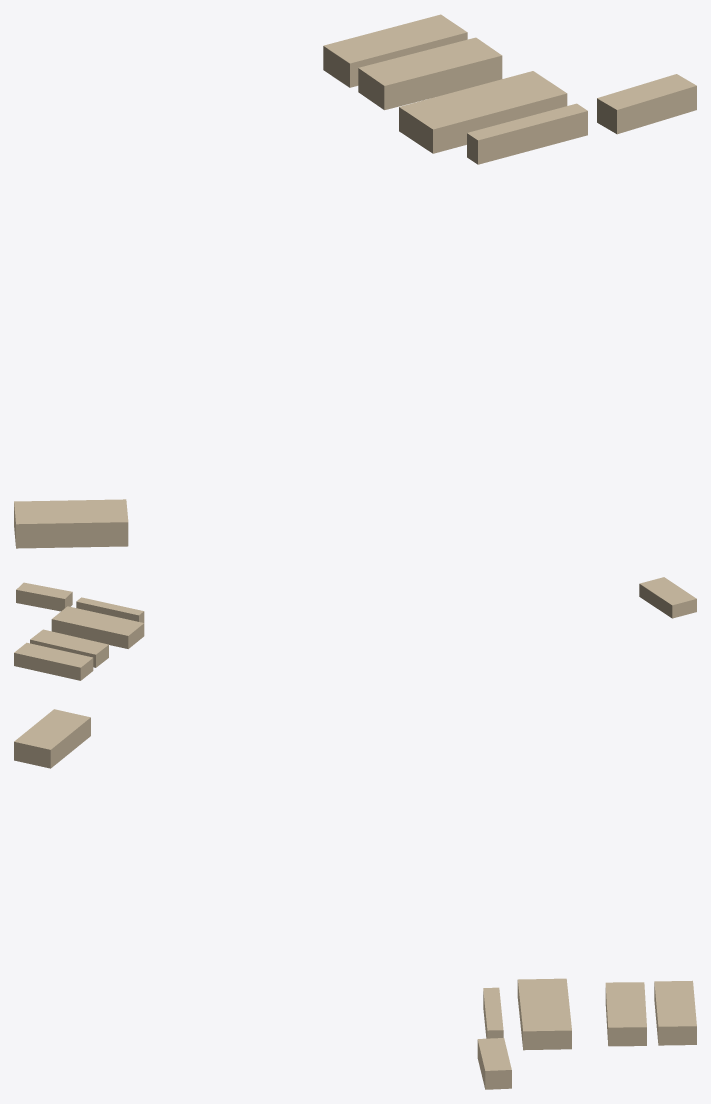
Rendered from -18_22-estimated-coarse.glb.
3 views of the same model, one above another, from view 1: azimuth 30°, elevation 25°; view 2: azimuth 150°, elevation 25°; view 3: azimuth 270°, elevation 25° (orthographic). The views are drawn at different scales.
Bounding box in the file's own units: 496 × 12 × 395.
